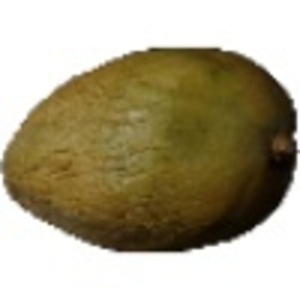mamão: (6, 39, 295, 262)
